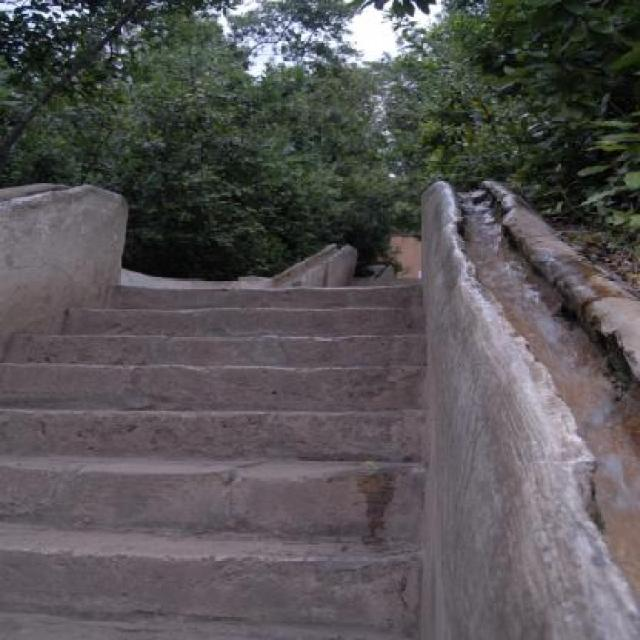stair: (0, 275, 423, 640)
